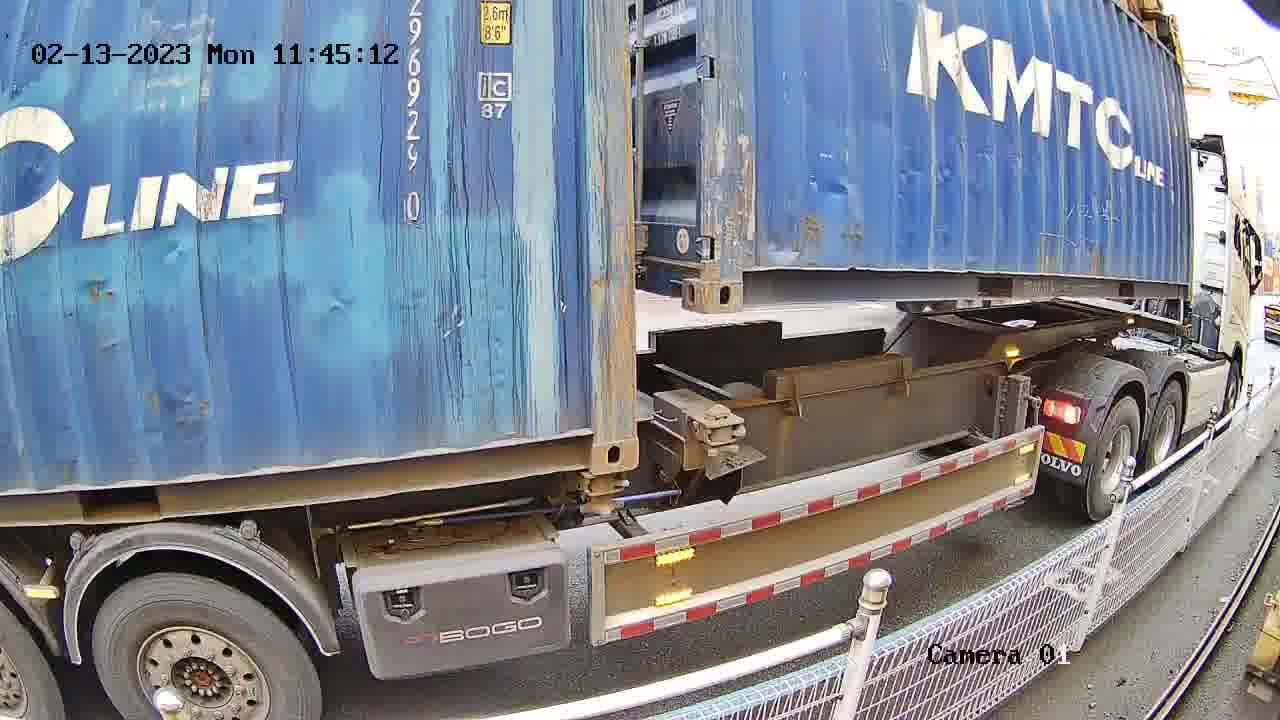Cone: (694, 406, 744, 459), (579, 471, 630, 519)
Hole_L: (705, 236, 787, 314)
Hole_R: (561, 404, 637, 475), (655, 242, 704, 314)
Tire: (94, 575, 320, 716), (1092, 399, 1140, 514), (1147, 386, 1181, 480)
